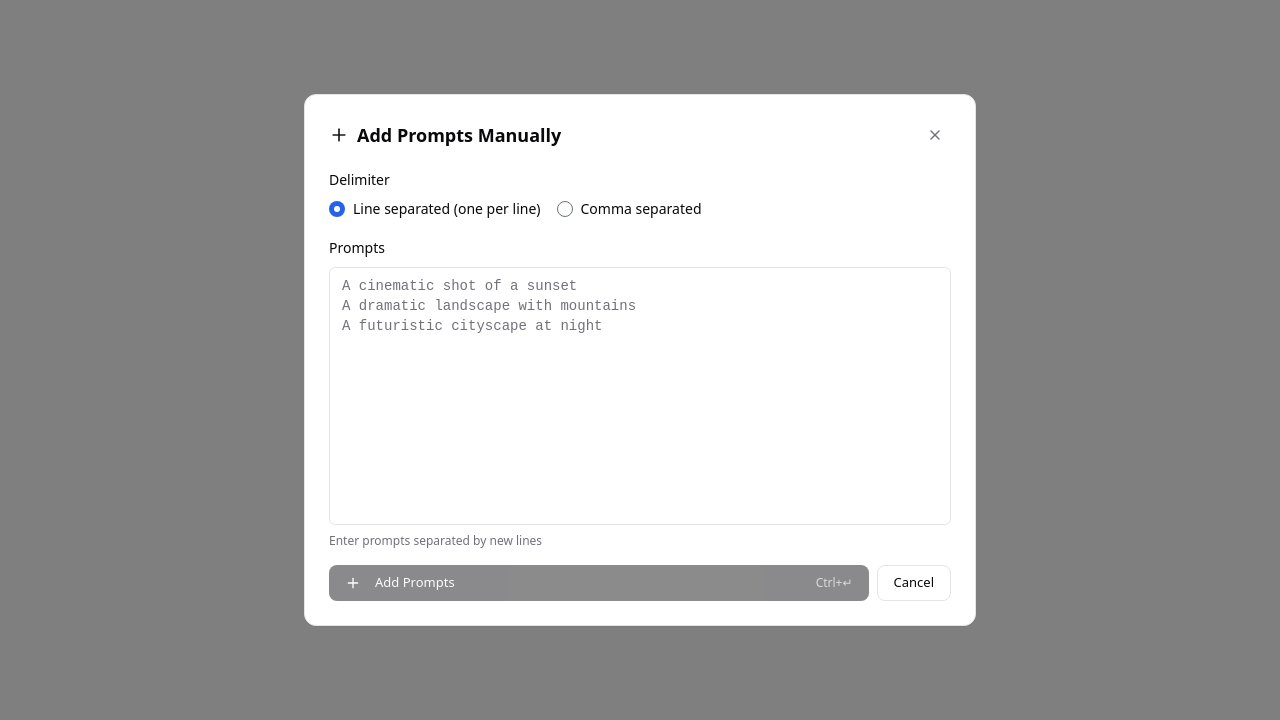
Test: ManualAddDialog › should handle non-Error exception in add
This screenshot has width=1280, height=720.
Replace the text in the text box labelled "Prompts" with "Prompt 1". click: (640, 396)
box: [329, 267, 951, 525]
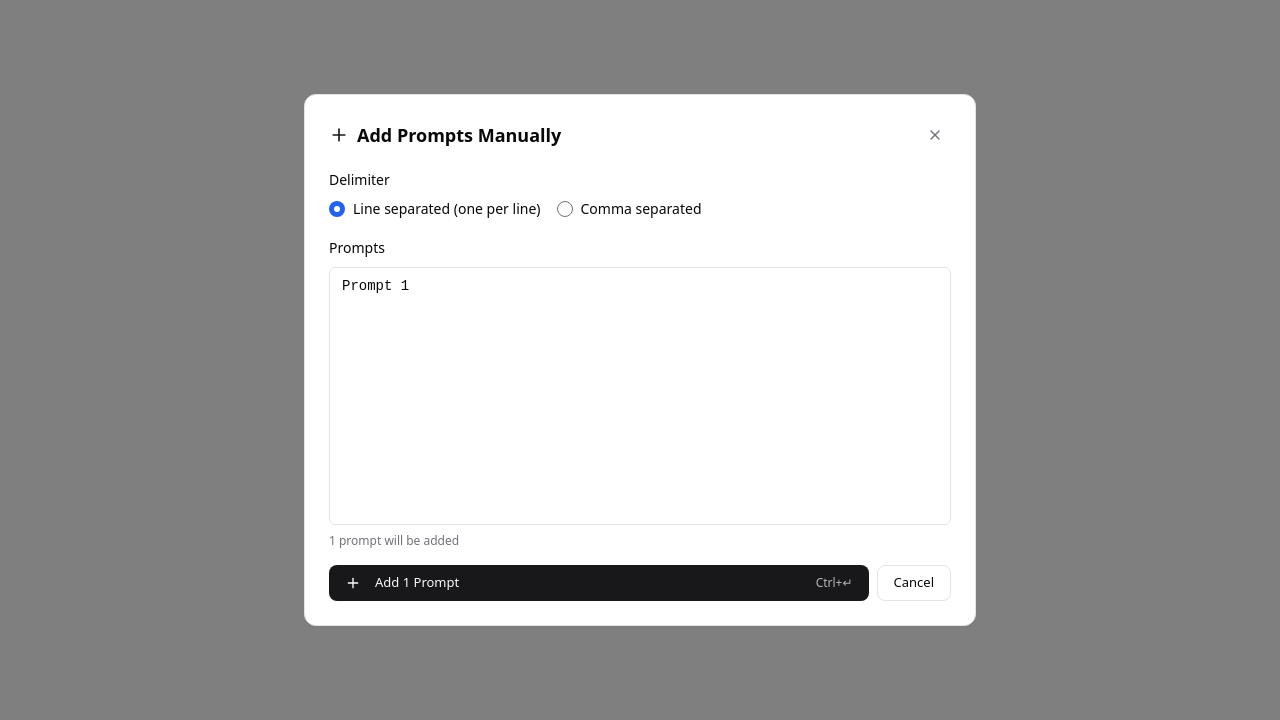
Click the button "Add 1 Prompt Ctrl+↵". click: (436, 582)
box: [329, 565, 868, 601]
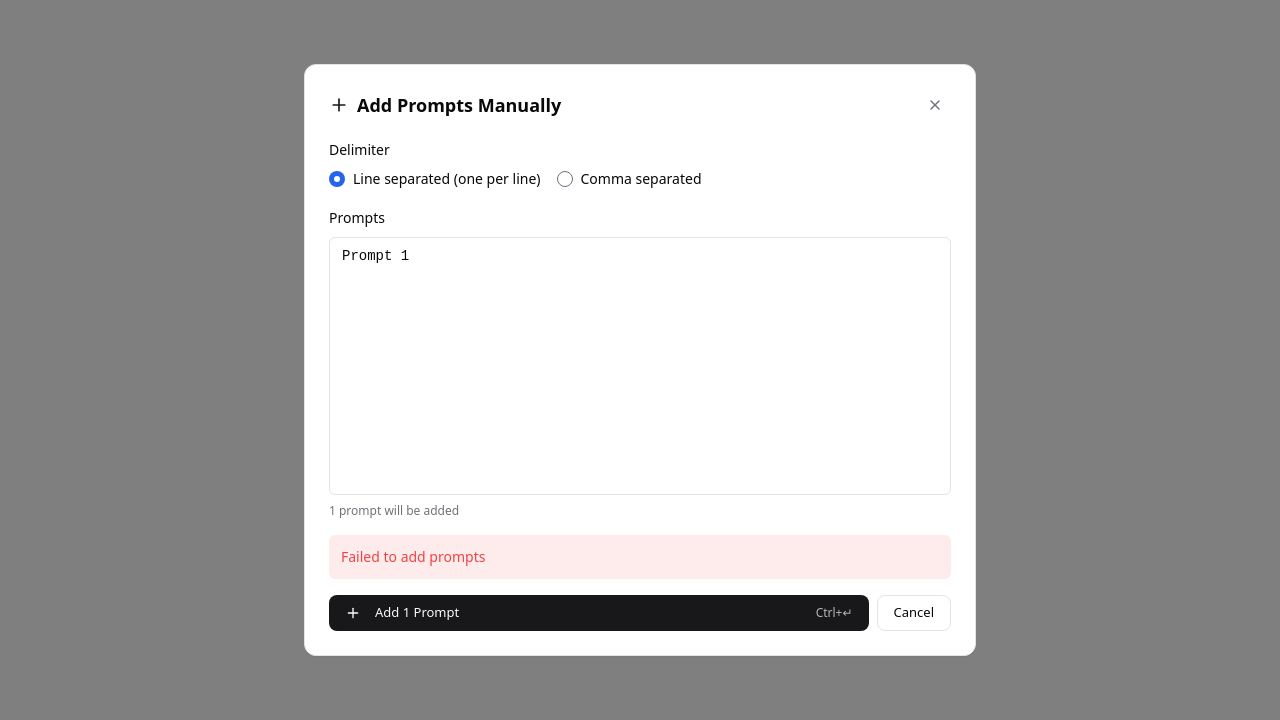
Check: the text "Failed to add prompts" is shown, box [329, 535, 951, 579]
